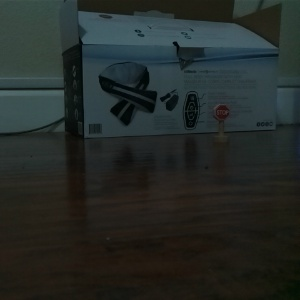stop sign: (209, 102, 233, 144)
